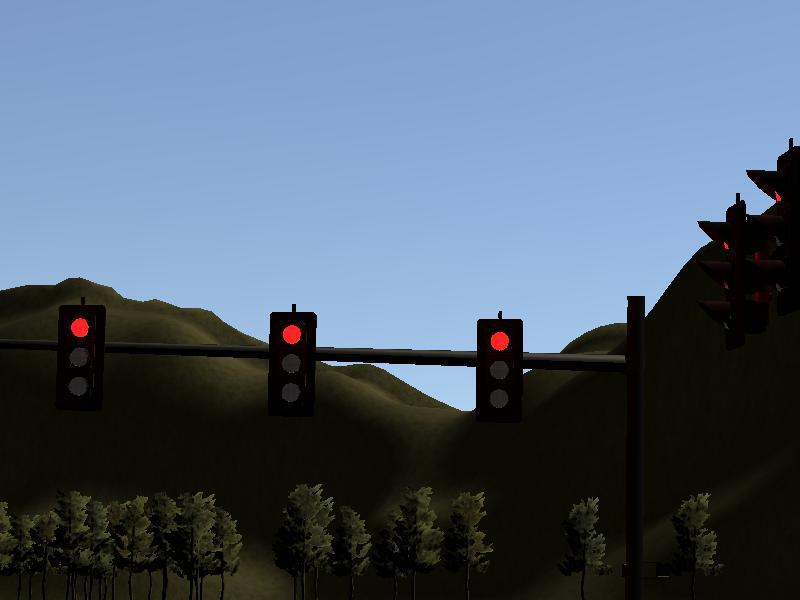Red: (59, 305, 106, 414), (478, 318, 521, 426), (270, 315, 315, 417)
